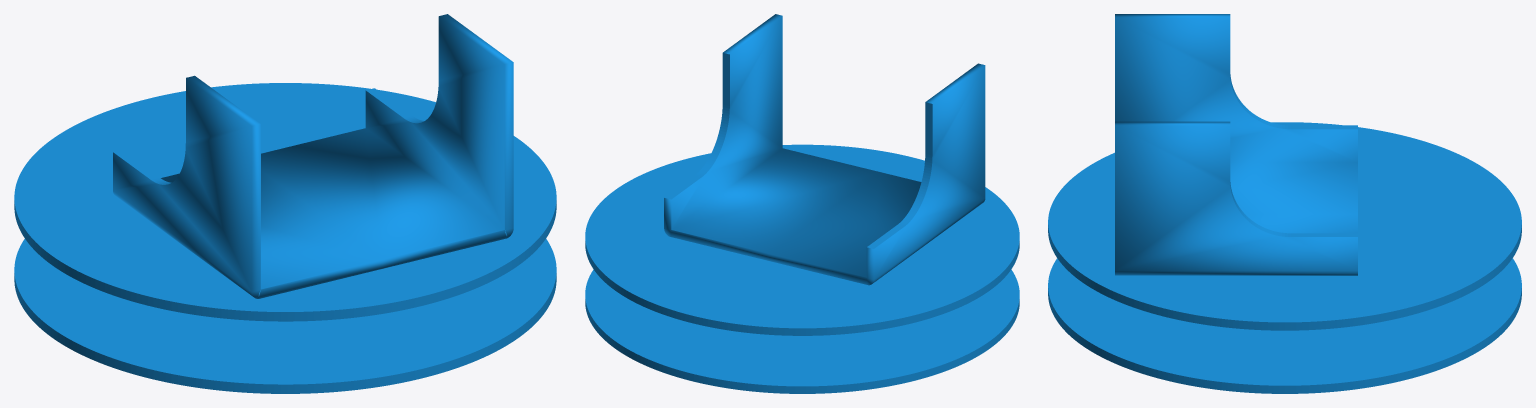
File: base_swivel.dae
The picture shows the model from 3 angles, left to right: view 1: azimuth 30°, elevation 25°; view 2: azimuth 150°, elevation 25°; view 3: azimuth 270°, elevation 25°; orthographic projection. The views are drawn at different scales.
Parts seen in each view (by area): view 1: swivel, swivel-servo-holder; view 2: swivel, swivel-servo-holder; view 3: swivel, swivel-servo-holder.
Boxes of the visible parts, <box> form: swivel: <box>14,83,556,393</box>; swivel-servo-holder: <box>113,14,513,298</box>; swivel: <box>585,144,1019,393</box>; swivel-servo-holder: <box>664,14,985,285</box>; swivel: <box>1048,122,1521,393</box>; swivel-servo-holder: <box>1115,14,1357,275</box>.
Size of the model in its own units: 78 by 78 by 40.69.
